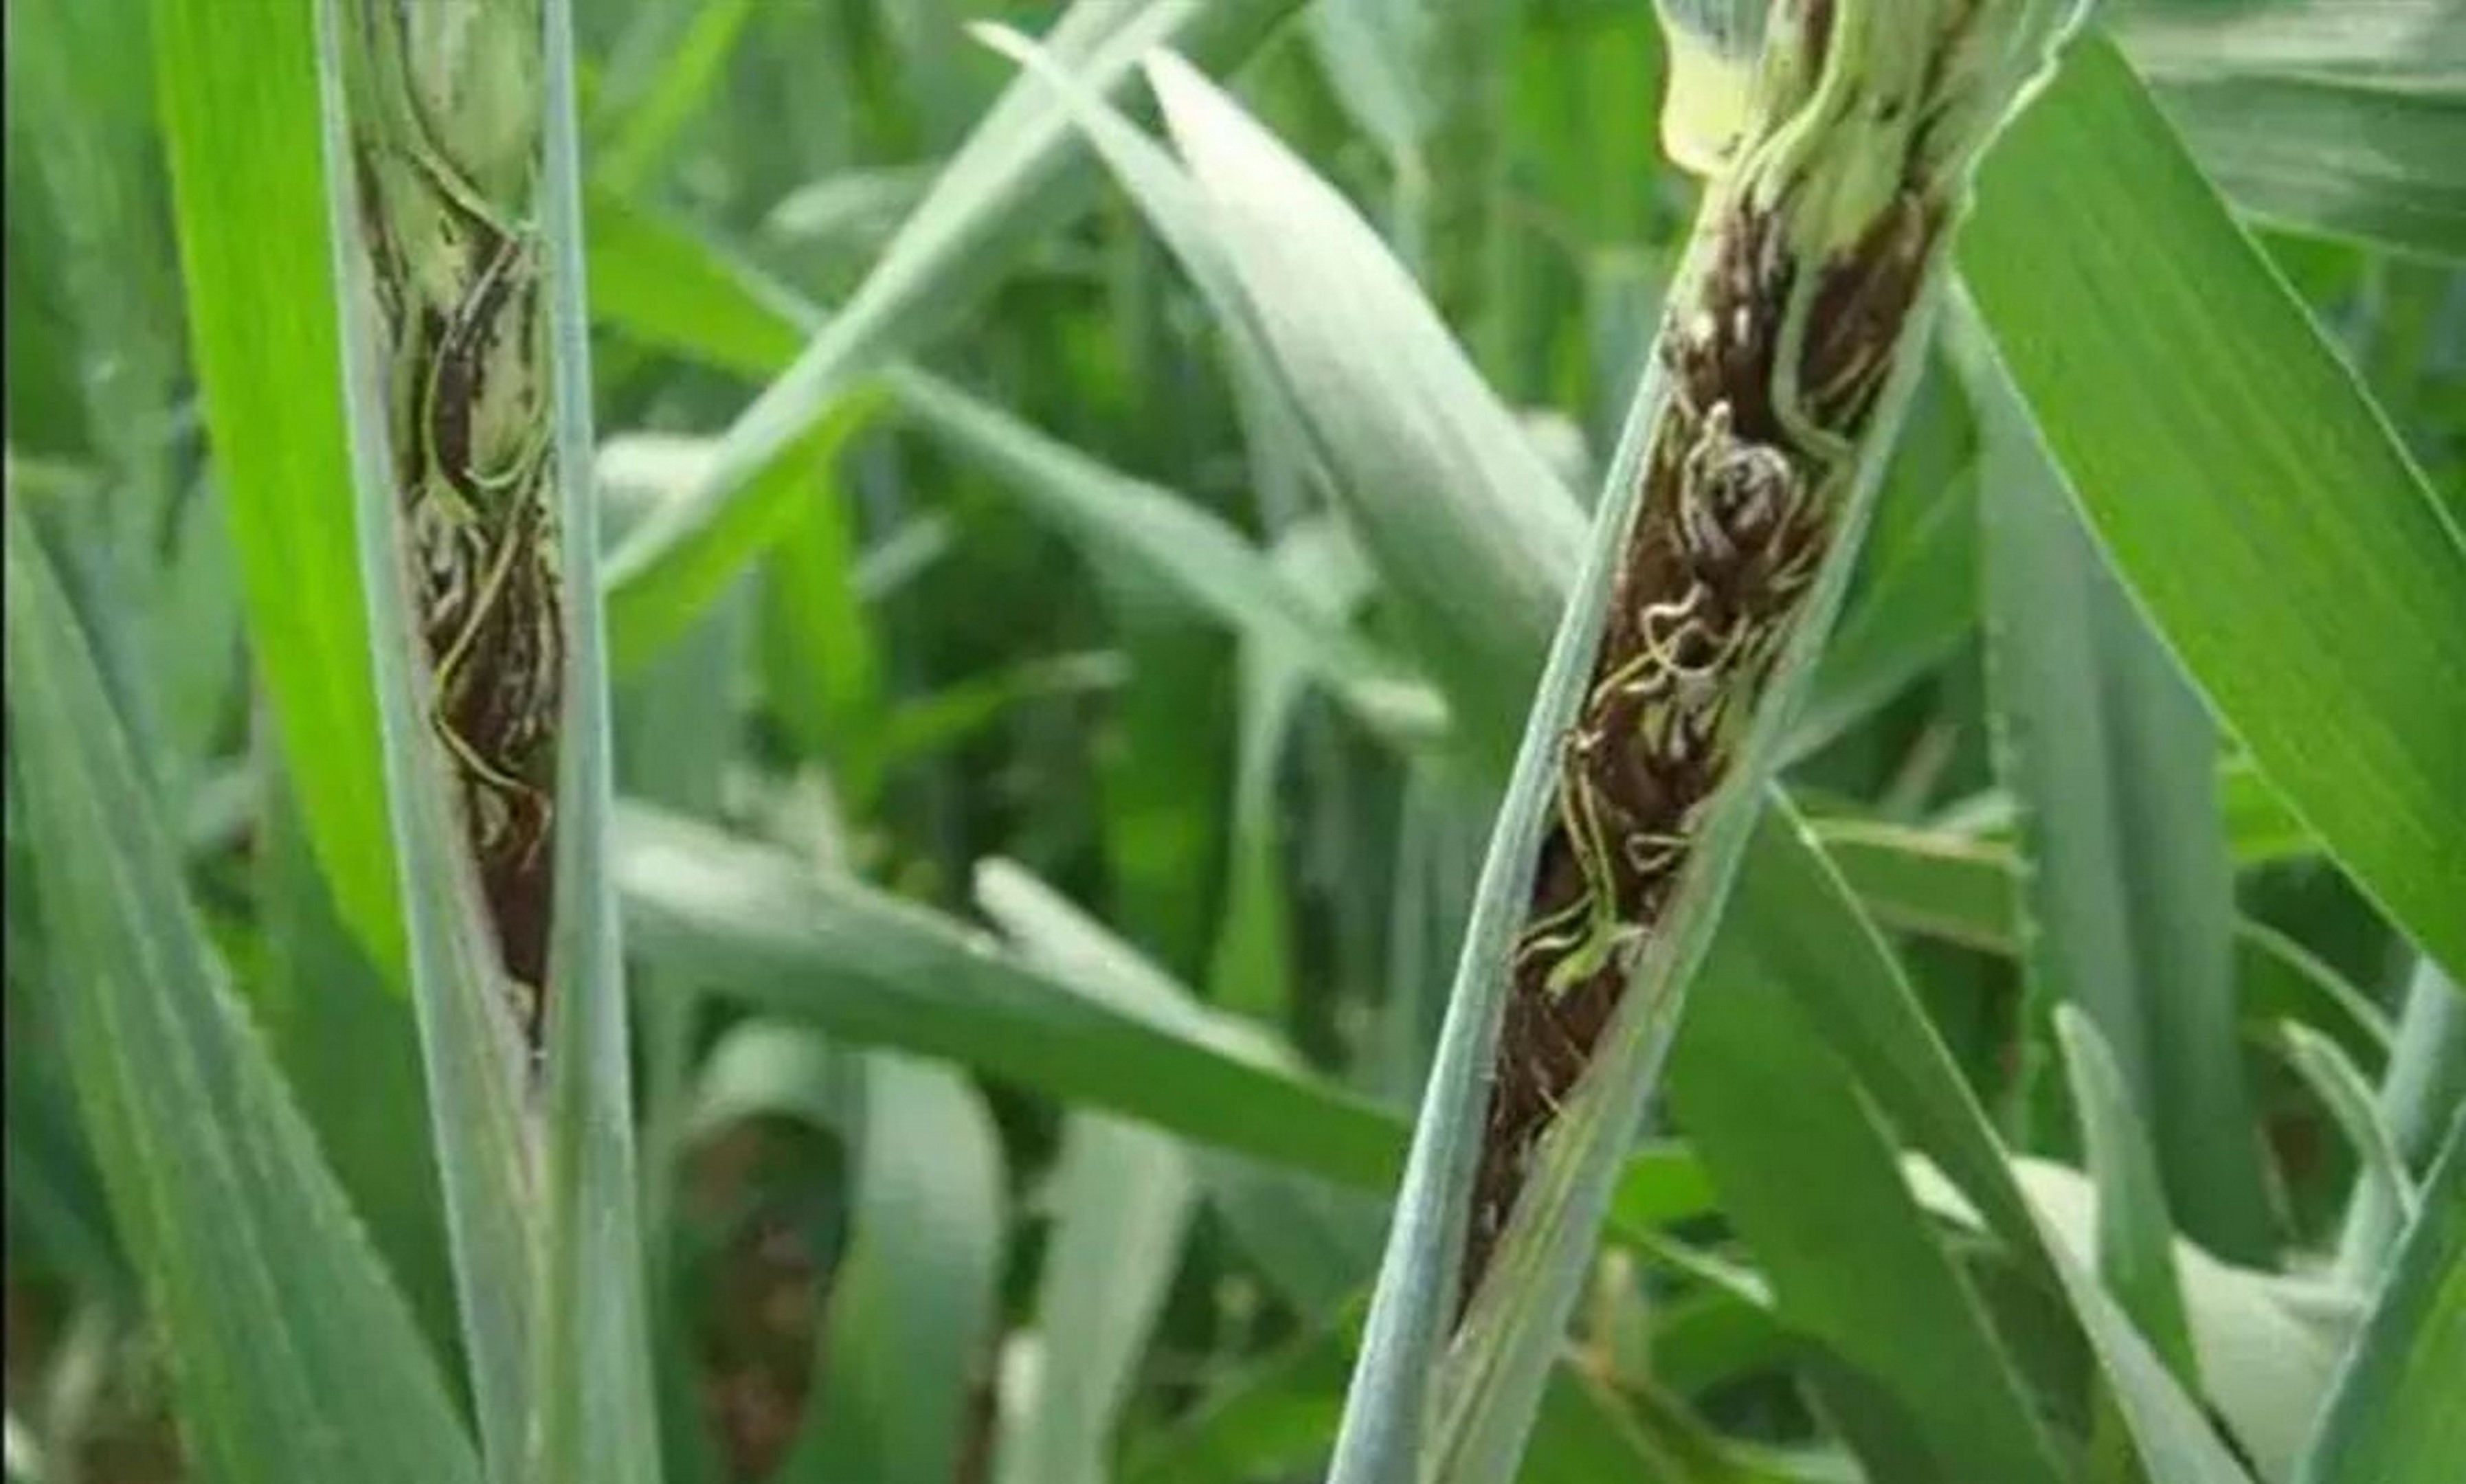Wheat Loose Smut: (1466, 222, 1925, 1195)
